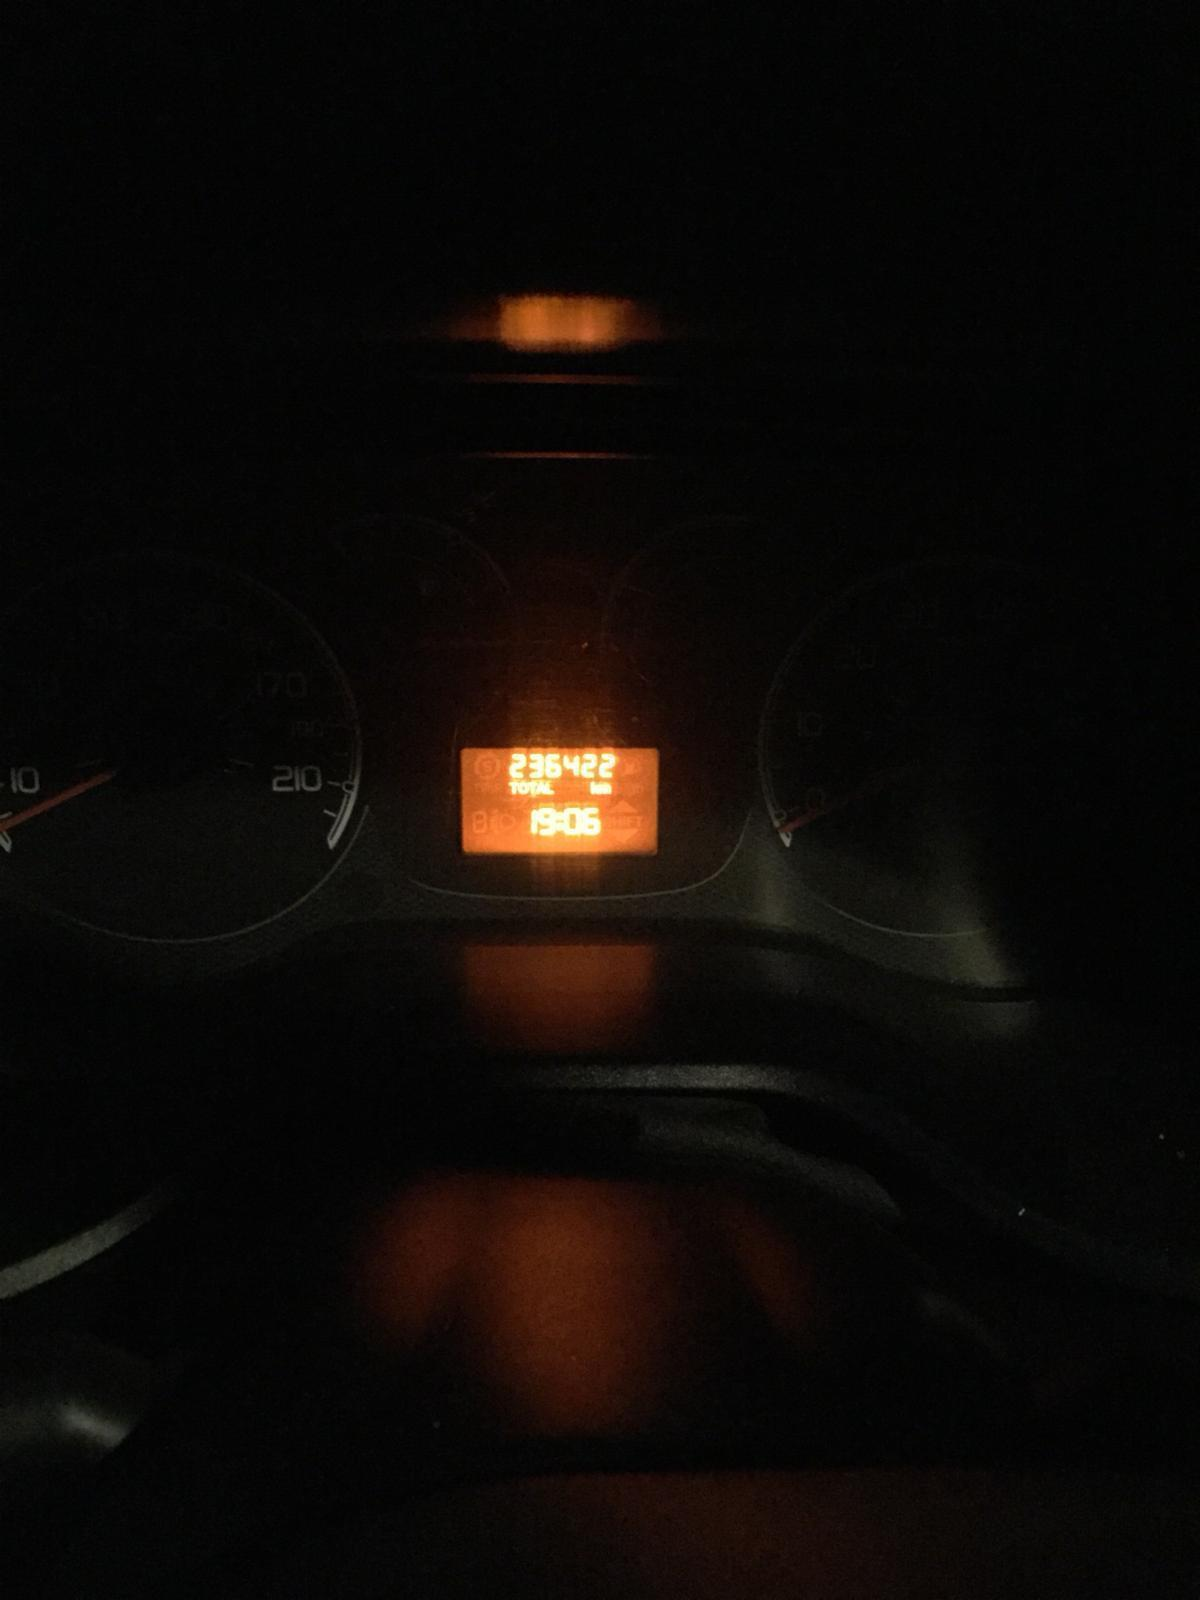0: (563, 805, 582, 837)
1: (529, 806, 538, 837)
2: (508, 753, 526, 777), (600, 753, 616, 779), (582, 752, 597, 779)
3: (528, 752, 545, 779)
4: (563, 752, 580, 777)
6: (582, 806, 601, 837), (545, 751, 560, 779)
9: (539, 806, 555, 837)
X: (556, 810, 563, 835), (545, 780, 555, 795), (601, 782, 613, 795), (590, 781, 600, 795), (518, 781, 528, 795), (509, 780, 518, 795), (528, 781, 537, 795), (537, 781, 545, 795)
odometer: (455, 742, 668, 860)
